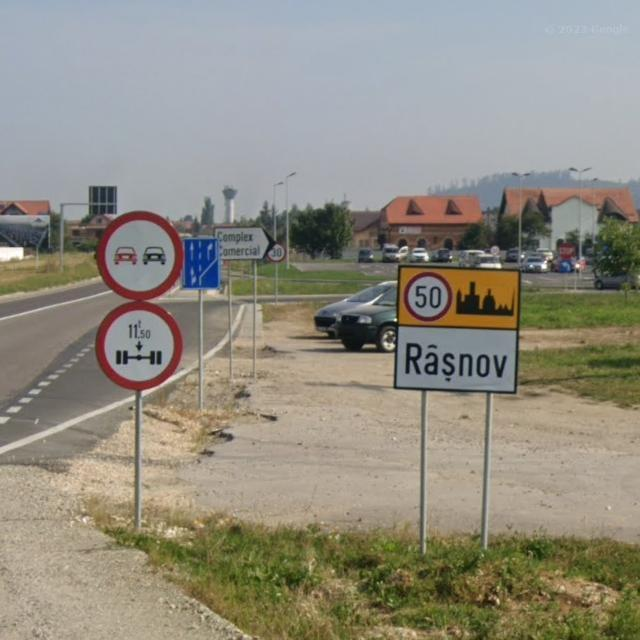forb_overtake: (100, 212, 184, 300)
forb_speed_over_30: (265, 243, 286, 262)
forb_speed_over_50: (403, 272, 452, 322)
